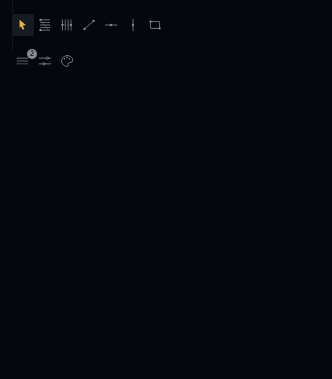
Scenario: 对象树多选(第 3 步) › 全选 / 清空选择 按钮互斥
What coordinates should you click on to do the following:
click the button named "对象树"
I would click on:
 (23, 61)
Its box is [12,50,34,72].
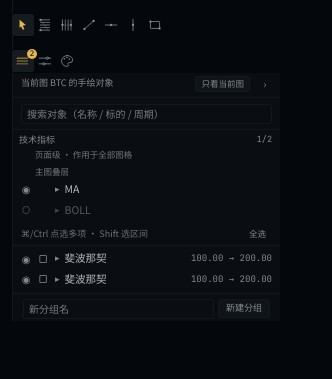
Result: the button with class "kf-draw-batch-all" reads "全选"
What coordinates should you click on to do the following:
click the button with class "kf-draw-batch-all"
I would click on:
 (258, 234)
Its box is [243,226,272,242].
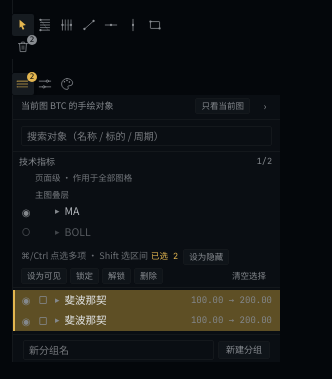
Result: the button with class "kf-draw-batch-all" reads "清空选择"
What coordinates should you click on to do the following:
click the button with class "kf-draw-batch-all"
I would click on:
 (249, 276)
Its box is [226,268,272,284].
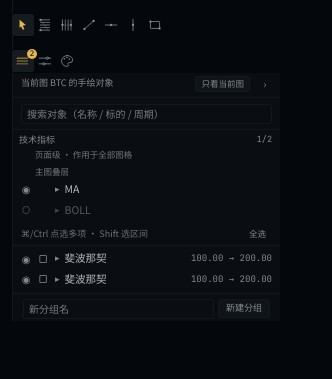
Result: the button with class "kf-draw-batch-all" reads "全选" at [243,226,272,242]
